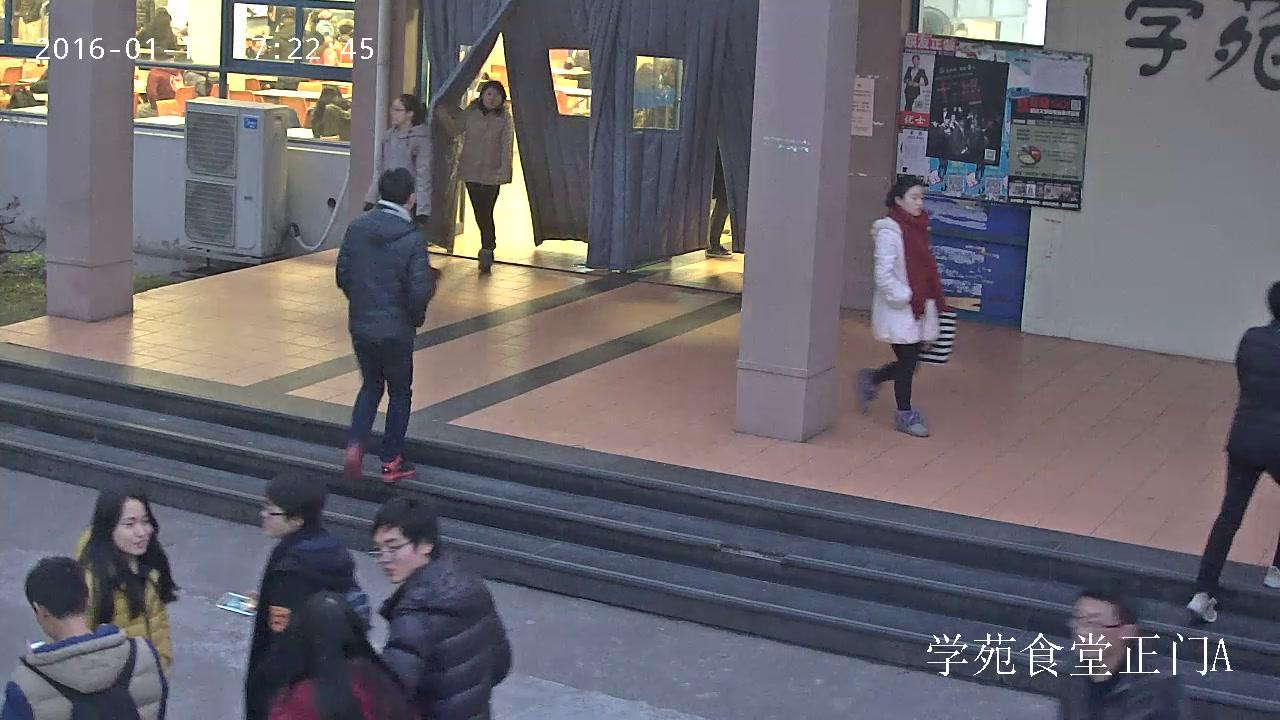person: (214, 469, 373, 720), (1184, 281, 1280, 622), (366, 495, 511, 720), (334, 168, 436, 484), (0, 556, 168, 720), (853, 174, 956, 437), (262, 589, 425, 720), (71, 482, 173, 677), (1054, 581, 1193, 720), (432, 80, 514, 274), (362, 94, 440, 296), (138, 40, 184, 118), (705, 142, 733, 258), (135, 7, 176, 70), (311, 84, 351, 142), (902, 54, 929, 111)
